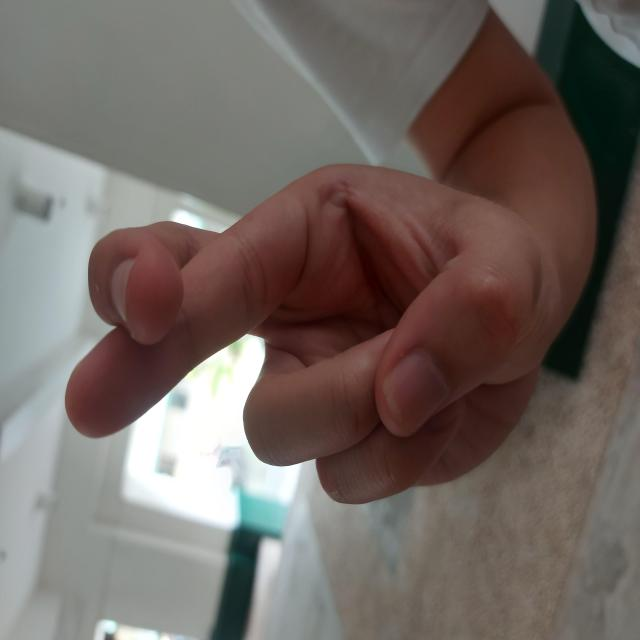R: (135, 64, 480, 563)
